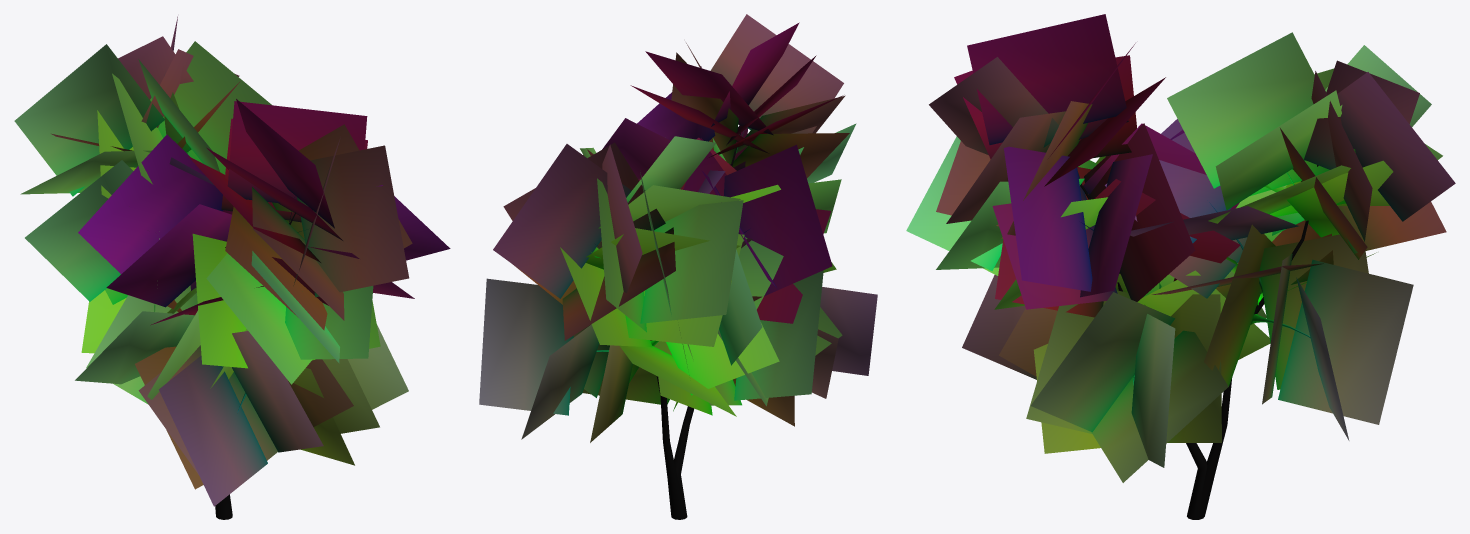
Rendered from URP_P15_Tree_4_LOD_2.fbx.
3 renders of one model, left to right at view 1: azimuth 30°, elevation 25°; view 2: azimuth 150°, elevation 25°; view 3: azimuth 270°, elevation 25°, orthographic. The views are drawn at different scales.
Parts seen in each view (by area): view 1: Tree_4_LOD_2; view 2: Tree_4_LOD_2; view 3: Tree_4_LOD_2.
Part boxes in pixels (x1,y1,x2,y2): Tree_4_LOD_2: (14, 16, 450, 519); Tree_4_LOD_2: (479, 14, 877, 519); Tree_4_LOD_2: (906, 14, 1455, 519).
Size of the model in its own units: 474 by 707 by 725.
